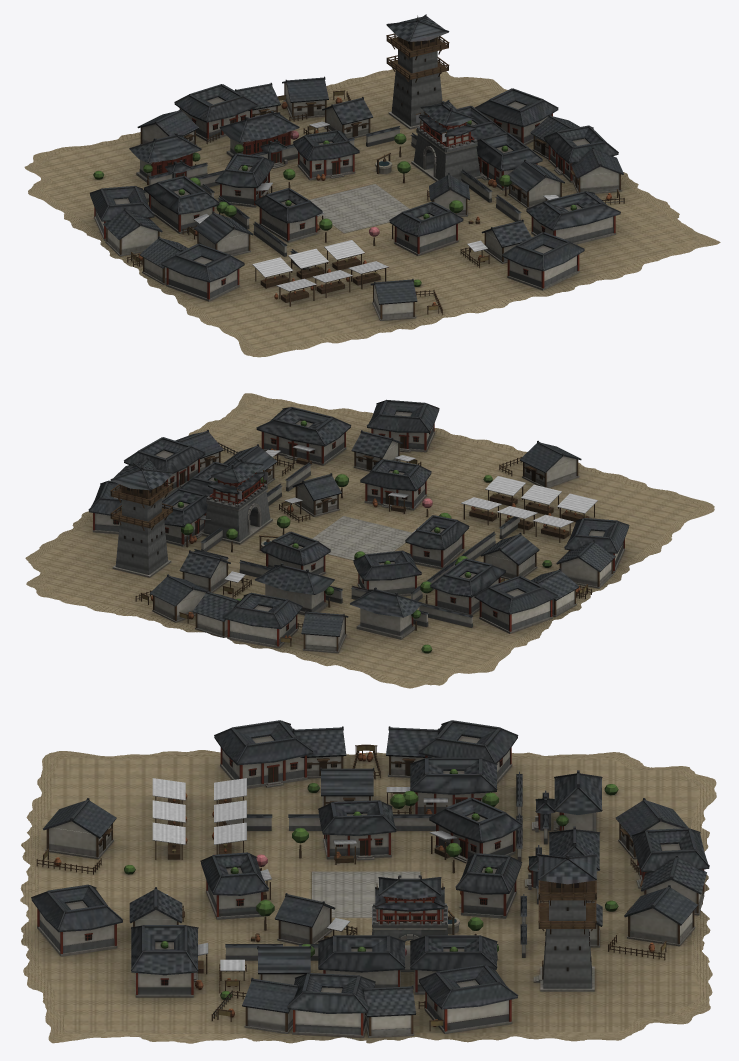
The model's file is classical-town-big-b-sinic.glb.
3 renders of one model, top to bottom at view 1: azimuth 30°, elevation 25°; view 2: azimuth 150°, elevation 25°; view 3: azimuth 270°, elevation 25°, orthographic. The views are drawn at different scales.
Visible parts, largest first — view 1: LOD0; view 2: LOD0; view 3: LOD0.
Boxes of the visible parts, x1,y1,x2,y2 form: LOD0: (24,14,720,357); LOD0: (25,393,714,688); LOD0: (20,720,716,1043).
Size of what is drawn, in the model's own units: 8.04 by 1.66 by 8.12.
3 materials, 3 textured.
